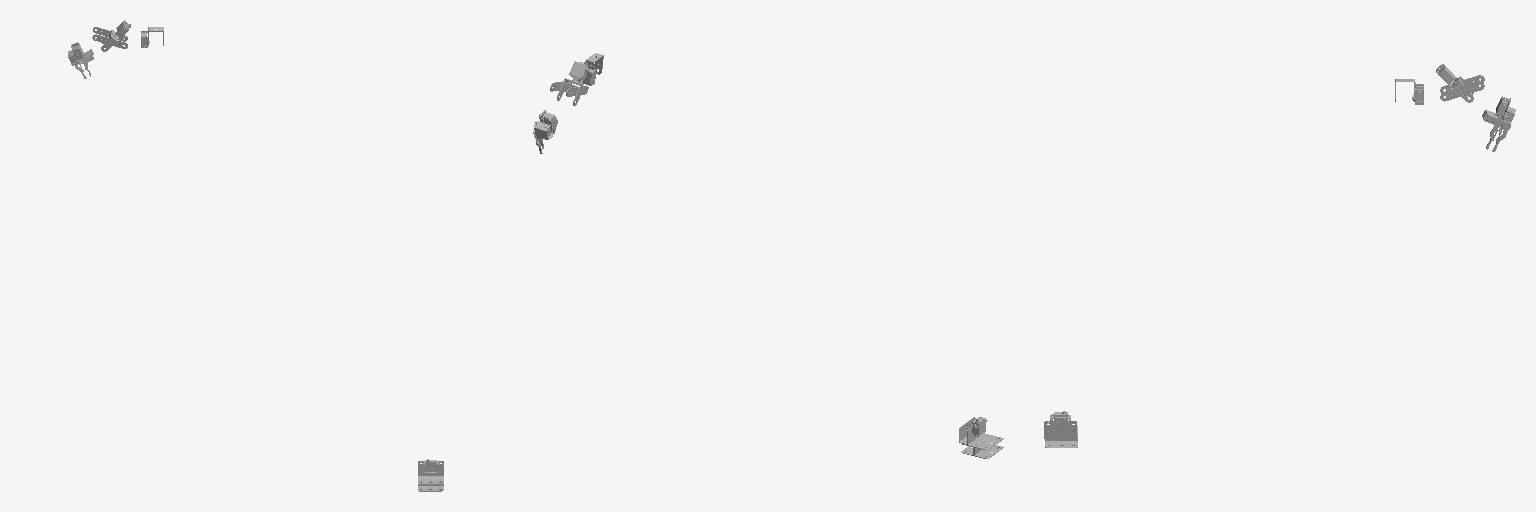
robot.urdf — robotic_arm:
<?xml version="1.0" encoding="utf-8"?>
<!-- This URDF was automatically created by SolidWorks to URDF Exporter! Originally created by Stephen Brawner ([email redacted]) 
     Commit Version: 1.6.0-4-g7f85cfe  Build Version: 1.6.7995.38578
     For more information, please see http://wiki.ros.org/sw_urdf_exporter -->
<robot
  name="robotic_arm">

  <link name="base_link"/>

  <joint name="base_to_link1" type="fixed">
    <parent link="base_link"/>
    <child link="Link_1"/>
  </joint>

  <link
    name="Link_1">
    <inertial>
      <origin
        xyz="0.00139306780894399 -0.00940529906912735 0.0453587398679983"
        rpy="0 0 0" />
      <mass
        value="0.0953444546366154" />
      <inertia
        ixx="5.93899507525618E-05"
        ixy="-1.95760719485949E-08"
        ixz="-1.60400346152967E-07"
        iyy="2.6536038073633E-05"
        iyz="-1.32399943739737E-07"
        izz="5.70826120419313E-05" />
    </inertial>
    <visual>
      <origin
        xyz="0 0 0"
        rpy="0 0 0" />
      <geometry>
        <mesh
          filename="package://robotic_arm/meshes/Link_1.STL" />
      </geometry>
      <material
        name="">
        <color
          rgba="0.752941176470588 0.752941176470588 0.752941176470588 1" />
      </material>
    </visual>
    <collision>
      <origin
        xyz="0 0 0"
        rpy="0 0 0" />
      <geometry>
        <mesh
          filename="package://robotic_arm/meshes/Link_1.STL" />
      </geometry>
    </collision>
  </link>
  <link
    name="Link_2">
    <inertial>
      <origin
        xyz="-0.00834673768181382 0.0592848892623844 -0.0104318358374922"
        rpy="0 0 0" />
      <mass
        value="0.0465317343045151" />
      <inertia
        ixx="1.28967179873652E-05"
        ixy="-1.15476212501747E-07"
        ixz="-2.00612047421851E-06"
        iyy="1.41046479531017E-05"
        iyz="1.1020913809783E-07"
        izz="1.28042688740714E-05" />
    </inertial>
    <visual>
      <origin
        xyz="0 0 0"
        rpy="0 0 0" />
      <geometry>
        <mesh
          filename="package://robotic_arm/meshes/Link_2.STL" />
      </geometry>
      <material
        name="">
        <color
          rgba="0.752941176470588 0.752941176470588 0.752941176470588 1" />
      </material>
    </visual>
    <collision>
      <origin
        xyz="0 0 0"
        rpy="0 0 0" />
      <geometry>
        <mesh
          filename="package://robotic_arm/meshes/Link_2.STL" />
      </geometry>
    </collision>
  </link>
  <joint
    name="Joint_1"
    type="continuous">
    <origin
      xyz="0 0 0.05"
      rpy="0 0 0" />
    <parent
      link="Link_1" />
    <child
      link="Link_2" />
    <axis
      xyz="0 1 0" />
  </joint>
  <link
    name="Link_3">
    <inertial>
      <origin
        xyz="-0.00411555735719238 -0.0490782066853519 0.0151869177885213"
        rpy="0 0 0" />
      <mass
        value="0.0196331437668371" />
      <inertia
        ixx="8.60828290211513E-06"
        ixy="-6.25849778733872E-07"
        ixz="-2.65465712392E-06"
        iyy="1.03763652187604E-05"
        iyz="1.48452113073735E-06"
        izz="1.38316237538039E-05" />
    </inertial>
    <visual>
      <origin
        xyz="0 0 0"
        rpy="0 0 0" />
      <geometry>
        <mesh
          filename="package://robotic_arm/meshes/Link_3.STL" />
      </geometry>
      <material
        name="">
        <color
          rgba="0.752941176470588 0.752941176470588 0.752941176470588 1" />
      </material>
    </visual>
    <collision>
      <origin
        xyz="0 0 0"
        rpy="0 0 0" />
      <geometry>
        <mesh
          filename="package://robotic_arm/meshes/Link_3.STL" />
      </geometry>
    </collision>
  </link>
  <joint
    name="Joint_2"
    type="continuous">
    <origin
      xyz="-0.013808 0.068 -0.014468"
      rpy="0 0 0" />
    <parent
      link="Link_2" />
    <child
      link="Link_3" />
    <axis
      xyz="1 0 0" />
  </joint>
  <link
    name="Link_4">
    <inertial>
      <origin
        xyz="-0.00444665491595025 0.0223202695441305 -0.00518263328273361"
        rpy="0 0 0" />
      <mass
        value="0.0527193093497026" />
      <inertia
        ixx="1.35233138733539E-05"
        ixy="-6.51337467875423E-07"
        ixz="-2.45290637972249E-06"
        iyy="1.23208076947286E-05"
        iyz="1.80348552476092E-06"
        izz="1.78382591990529E-05" />
    </inertial>
    <visual>
      <origin
        xyz="0 0 0"
        rpy="0 0 0" />
      <geometry>
        <mesh
          filename="package://robotic_arm/meshes/Link_4.STL" />
      </geometry>
      <material
        name="">
        <color
          rgba="0.752941176470588 0.752941176470588 0.752941176470588 1" />
      </material>
    </visual>
    <collision>
      <origin
        xyz="0 0 0"
        rpy="0 0 0" />
      <geometry>
        <mesh
          filename="package://robotic_arm/meshes/Link_4.STL" />
      </geometry>
    </collision>
  </link>
  <joint
    name="Joint_3"
    type="continuous">
    <origin
      xyz="-0.011907 -0.098173 0.028798"
      rpy="0 0 0" />
    <parent
      link="Link_3" />
    <child
      link="Link_4" />
    <axis
      xyz="1 0 0" />
  </joint>
  <link
    name="Link_5">
    <inertial>
      <origin
        xyz="0.000679680189040077 0.0122665484013129 0.0211158228704872"
        rpy="0 0 0" />
      <mass
        value="0.0734303247872166" />
      <inertia
        ixx="1.38233645740671E-05"
        ixy="8.61051491118209E-07"
        ixz="-2.17371805074157E-06"
        iyy="1.39325618071774E-05"
        iyz="-2.30776403389571E-06"
        izz="1.90390713191208E-05" />
    </inertial>
    <visual>
      <origin
        xyz="0 0 0"
        rpy="0 0 0" />
      <geometry>
        <mesh
          filename="package://robotic_arm/meshes/Link_5.STL" />
      </geometry>
      <material
        name="">
        <color
          rgba="0.752941176470588 0.752941176470588 0.752941176470588 1" />
      </material>
    </visual>
    <collision>
      <origin
        xyz="0 0 0"
        rpy="0 0 0" />
      <geometry>
        <mesh
          filename="package://robotic_arm/meshes/Link_5.STL" />
      </geometry>
    </collision>
  </link>
  <joint
    name="Joint_4"
    type="continuous">
    <origin
      xyz="0.0087856 0.094286 -0.021316"
      rpy="0 0 0" />
    <parent
      link="Link_4" />
    <child
      link="Link_5" />
    <axis
      xyz="1 0 0" />
  </joint>
  <link
    name="Link_6">
    <inertial>
      <origin
        xyz="0.000490956447003033 0.0365600823816492 0.0629614150153786"
        rpy="0 0 0" />
      <mass
        value="0.0505964512602664" />
      <inertia
        ixx="9.1057804910603E-06"
        ixy="-4.1013347615792E-07"
        ixz="3.07553808060529E-07"
        iyy="8.4892606377326E-06"
        iyz="1.22622100929367E-06"
        izz="8.6626497442181E-06" />
    </inertial>
    <visual>
      <origin
        xyz="0 0 0"
        rpy="0 0 0" />
      <geometry>
        <mesh
          filename="package://robotic_arm/meshes/Link_6.STL" />
      </geometry>
      <material
        name="">
        <color
          rgba="0.752941176470588 0.752941176470588 0.752941176470588 1" />
      </material>
    </visual>
    <collision>
      <origin
        xyz="0 0 0"
        rpy="0 0 0" />
      <geometry>
        <mesh
          filename="package://robotic_arm/meshes/Link_6.STL" />
      </geometry>
    </collision>
  </link>
  <joint
    name="Joint_5"
    type="continuous">
    <origin
      xyz="0.0075284 0.0019156 0.035067"
      rpy="0 0 0" />
    <parent
      link="Link_5" />
    <child
      link="Link_6" />
    <axis
      xyz="0 -1 -1" />
  </joint>
</robot>

--- Facts derived from the render (not from the file) ---
The picture shows the robot from 3 angles, left to right: view 1: azimuth 90°, elevation 25°; view 2: azimuth 150°, elevation 25°; view 3: azimuth 270°, elevation 25°; orthographic projection.
Robot: robotic_arm — 7 links, 6 joints (5 continuous, 1 fixed); root link base_link; default pose: every joint at zero.
Links seen in each view (by area): view 1: Link_1; view 2: Link_1; view 3: Link_1, Link_3, Link_6.
Boxes of the visible links, <box> form: Link_1: <box>418,459,443,491</box>; Link_1: <box>959,417,1003,458</box>; Link_1: <box>1044,411,1077,447</box>; Link_3: <box>1440,75,1484,101</box>; Link_6: <box>1482,110,1510,151</box>.
Size in the robot's own frame: 0.769 by 1.3 by 1.45 metres.
6 mesh visuals loaded from 6 distinct referenced files (6 binary STL).
